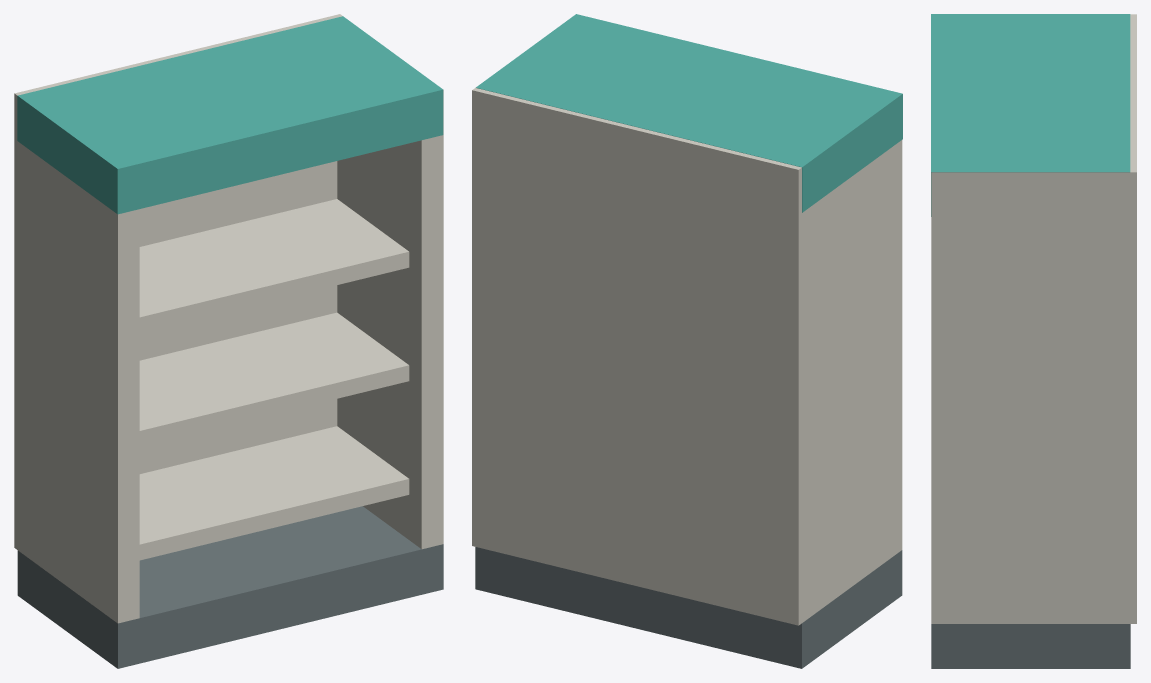
Rendered from supermarket-operations-open-chiller-95bac66b__26794.glb.
The picture shows the model from 3 angles, left to right: view 1: azimuth 30°, elevation 25°; view 2: azimuth 150°, elevation 25°; view 3: azimuth 270°, elevation 25°; orthographic projection.
Parts seen in each view (by area): view 1: open-chiller; view 2: open-chiller; view 3: open-chiller.
Boxes of the visible parts, x1,y1,x2,y2 form: open-chiller: (14,14,443,668); open-chiller: (472,14,902,668); open-chiller: (931,14,1136,668).
Size of the model in its own units: 1.5 by 2.2 by 0.8263.
